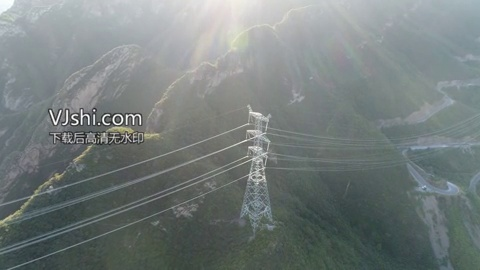tower_body: (236, 102, 282, 236)
tower_foot: (238, 198, 276, 232)
tower_head: (244, 105, 278, 127)
